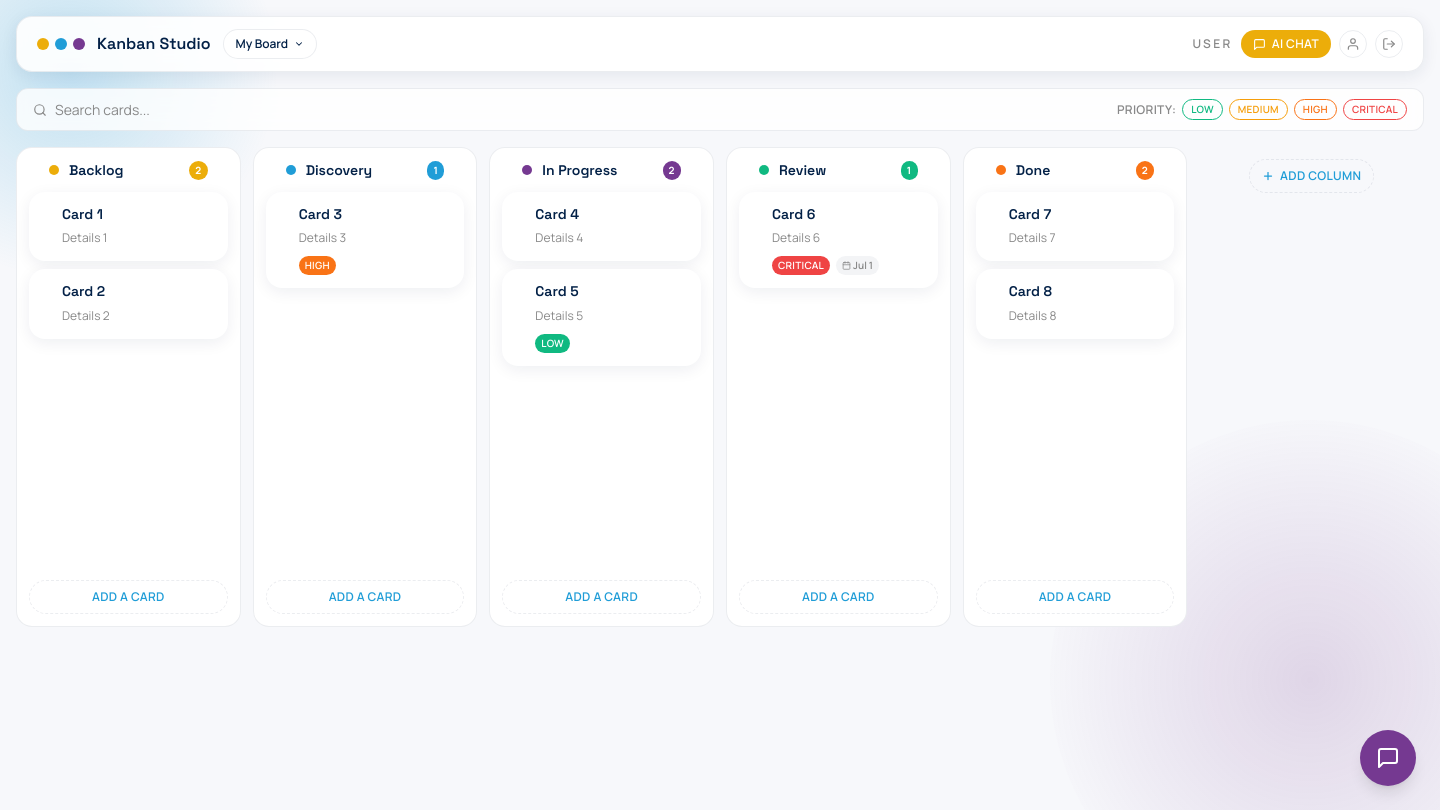
Scenario: KanbanBoard › shows clear filters button when search has text
Type "test query" into the search field with test id "search-input".
click(582, 110); type("test query")  # box 55,100 -> 1109,120
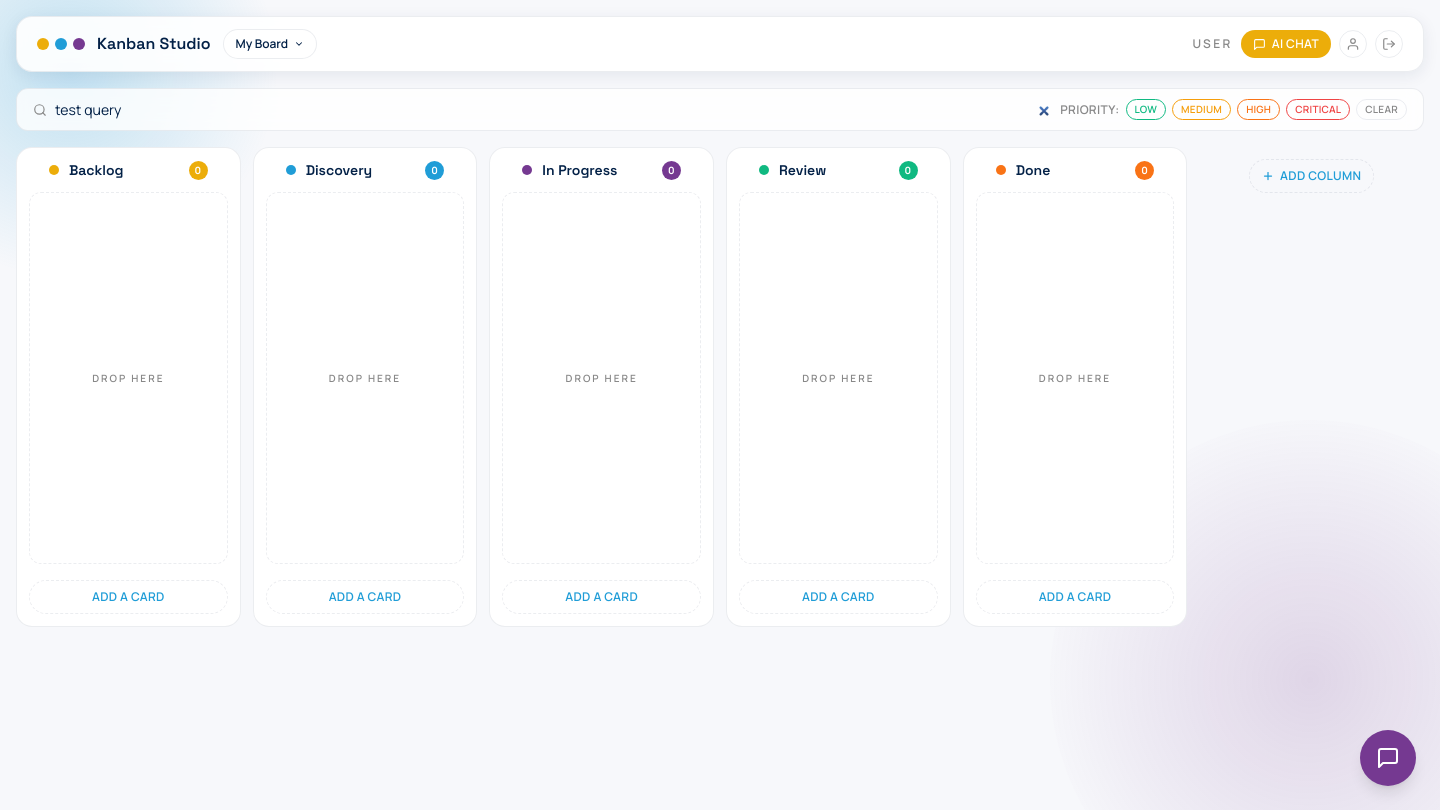
Result: the button with test id "clear-filters" is shown at 1356,99 -> 1407,120
